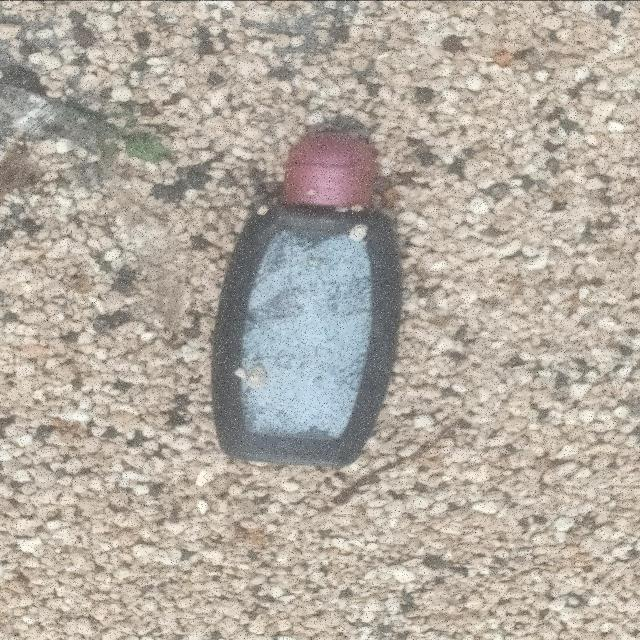plastic_waste: (210, 132, 405, 470)
